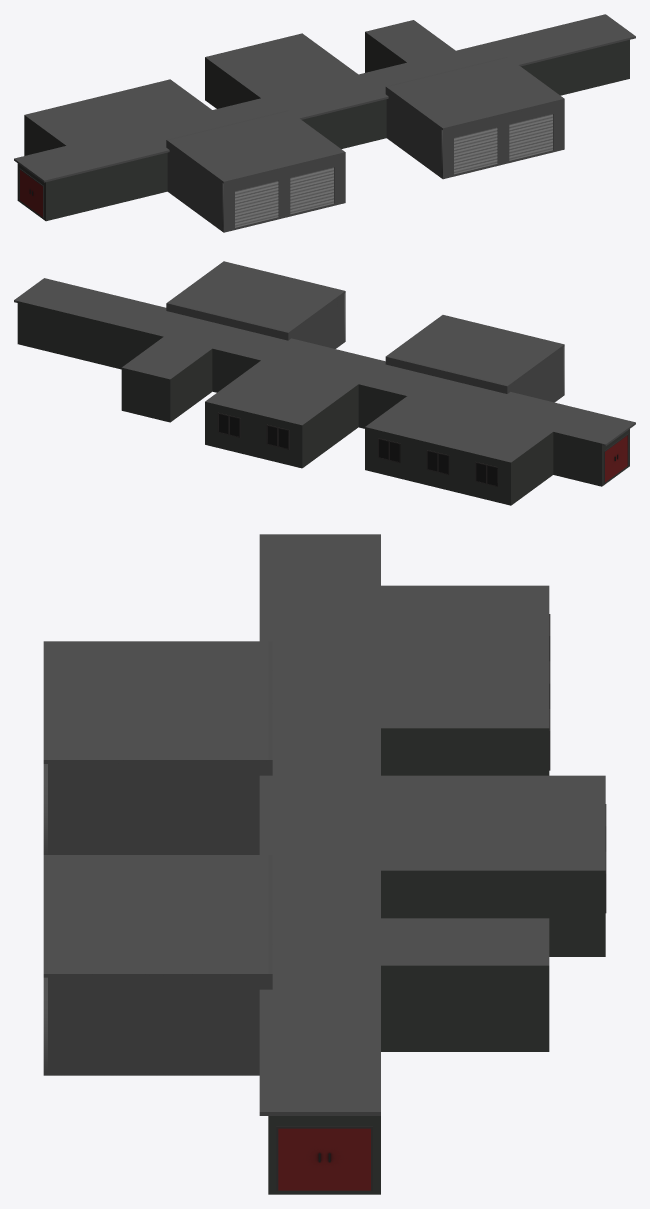
The model's file is SafeHouse.fbx.
3 renders of one model, top to bottom at view 1: azimuth 30°, elevation 25°; view 2: azimuth 150°, elevation 25°; view 3: azimuth 270°, elevation 25°, orthographic. The views are drawn at different scales.
Parts seen in each view (by area): view 1: Garage_Door (×2), Garage_Wall, shop_0001:Garage_Wall, Wall_Exterior_Interior21, Wall_Exterior_Interior22, Wall_Exterior_Interior28, Wall_Exterior_Interior29, shop_0001:Garage_Door, Garage_Door1, Floor_Celing55, Floor_Celing49, Floor_Celing54 (+48 smaller); view 2: Window_Glass (×5), Wall_Exterior_Interior16, Wall_Exterior_Interior19, Wall_Exterior_Interior20, Wall_Exterior_Interior9, Floor_Celing34, Floor_Celing32, Floor_Celing35, Floor_Celing44, Floor_Celing31, Floor_Celing30, Floor_Celing33 (+47 smaller); view 3: Wall_Exterior_Interior14, Wall_Exterior_Interior32, Wall_Exterior_Interior33, Wall_Exterior_Interior31, Wall_Exterior_Interior34, Wall_Exterior_Interior3, Floor_Celing35, Floor_Celing36, Floor_Celing37, Floor_Celing47, Floor_Celing48, Floor_Celing49 (+37 smaller).
Part boxes in pixels (x1,y1,x2,y2): Garage_Door (×2): (290, 114, 552, 213); Garage_Wall: (222, 154, 345, 230); shop_0001:Garage_Wall: (441, 100, 564, 177); Wall_Exterior_Interior21: (47, 171, 92, 218); Wall_Exterior_Interior22: (96, 159, 141, 206); Wall_Exterior_Interior28: (583, 40, 628, 87); Wall_Exterior_Interior29: (340, 99, 384, 147); shop_0001:Garage_Door: (454, 127, 497, 174); Garage_Door1: (235, 181, 278, 227); Floor_Celing55: (414, 96, 491, 130); Floor_Celing49: (269, 131, 345, 165); Floor_Celing54: (464, 84, 540, 118); Window_Glass (×5): (219, 414, 496, 485); Wall_Exterior_Interior16: (123, 370, 168, 419); Wall_Exterior_Interior19: (68, 315, 113, 365); Wall_Exterior_Interior20: (19, 303, 64, 353); Wall_Exterior_Interior9: (555, 434, 599, 484); Floor_Celing34: (253, 393, 330, 427); Floor_Celing32: (17, 280, 93, 314); Floor_Celing35: (205, 381, 280, 415); Floor_Celing44: (553, 411, 629, 445); Floor_Celing31: (66, 292, 142, 326); Floor_Celing30: (115, 304, 190, 337); Floor_Celing33: (282, 372, 358, 406); Wall_Exterior_Interior14: (385, 969, 488, 1047); Wall_Exterior_Interior32: (48, 993, 151, 1071); Wall_Exterior_Interior33: (48, 779, 151, 854); Wall_Exterior_Interior31: (160, 993, 259, 1071); Wall_Exterior_Interior34: (160, 779, 259, 854); Wall_Exterior_Interior3: (497, 874, 601, 952); Floor_Celing35: (493, 823, 605, 874); Floor_Celing36: (381, 823, 493, 874); Floor_Celing37: (381, 918, 493, 969); Floor_Celing47: (381, 680, 493, 731); Floor_Celing48: (156, 712, 268, 763); Floor_Celing49: (43, 712, 155, 763).
Size of the model in its own units: 158 by 13 by 65.09.
